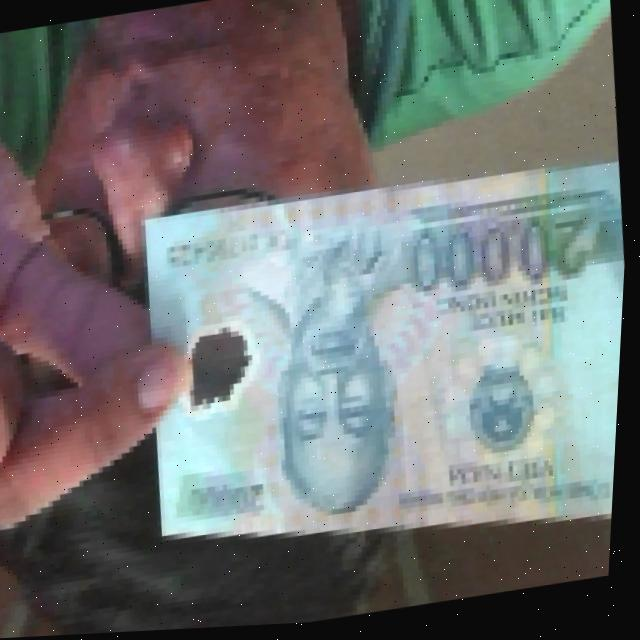20 000 VND: (121, 146, 633, 608)
